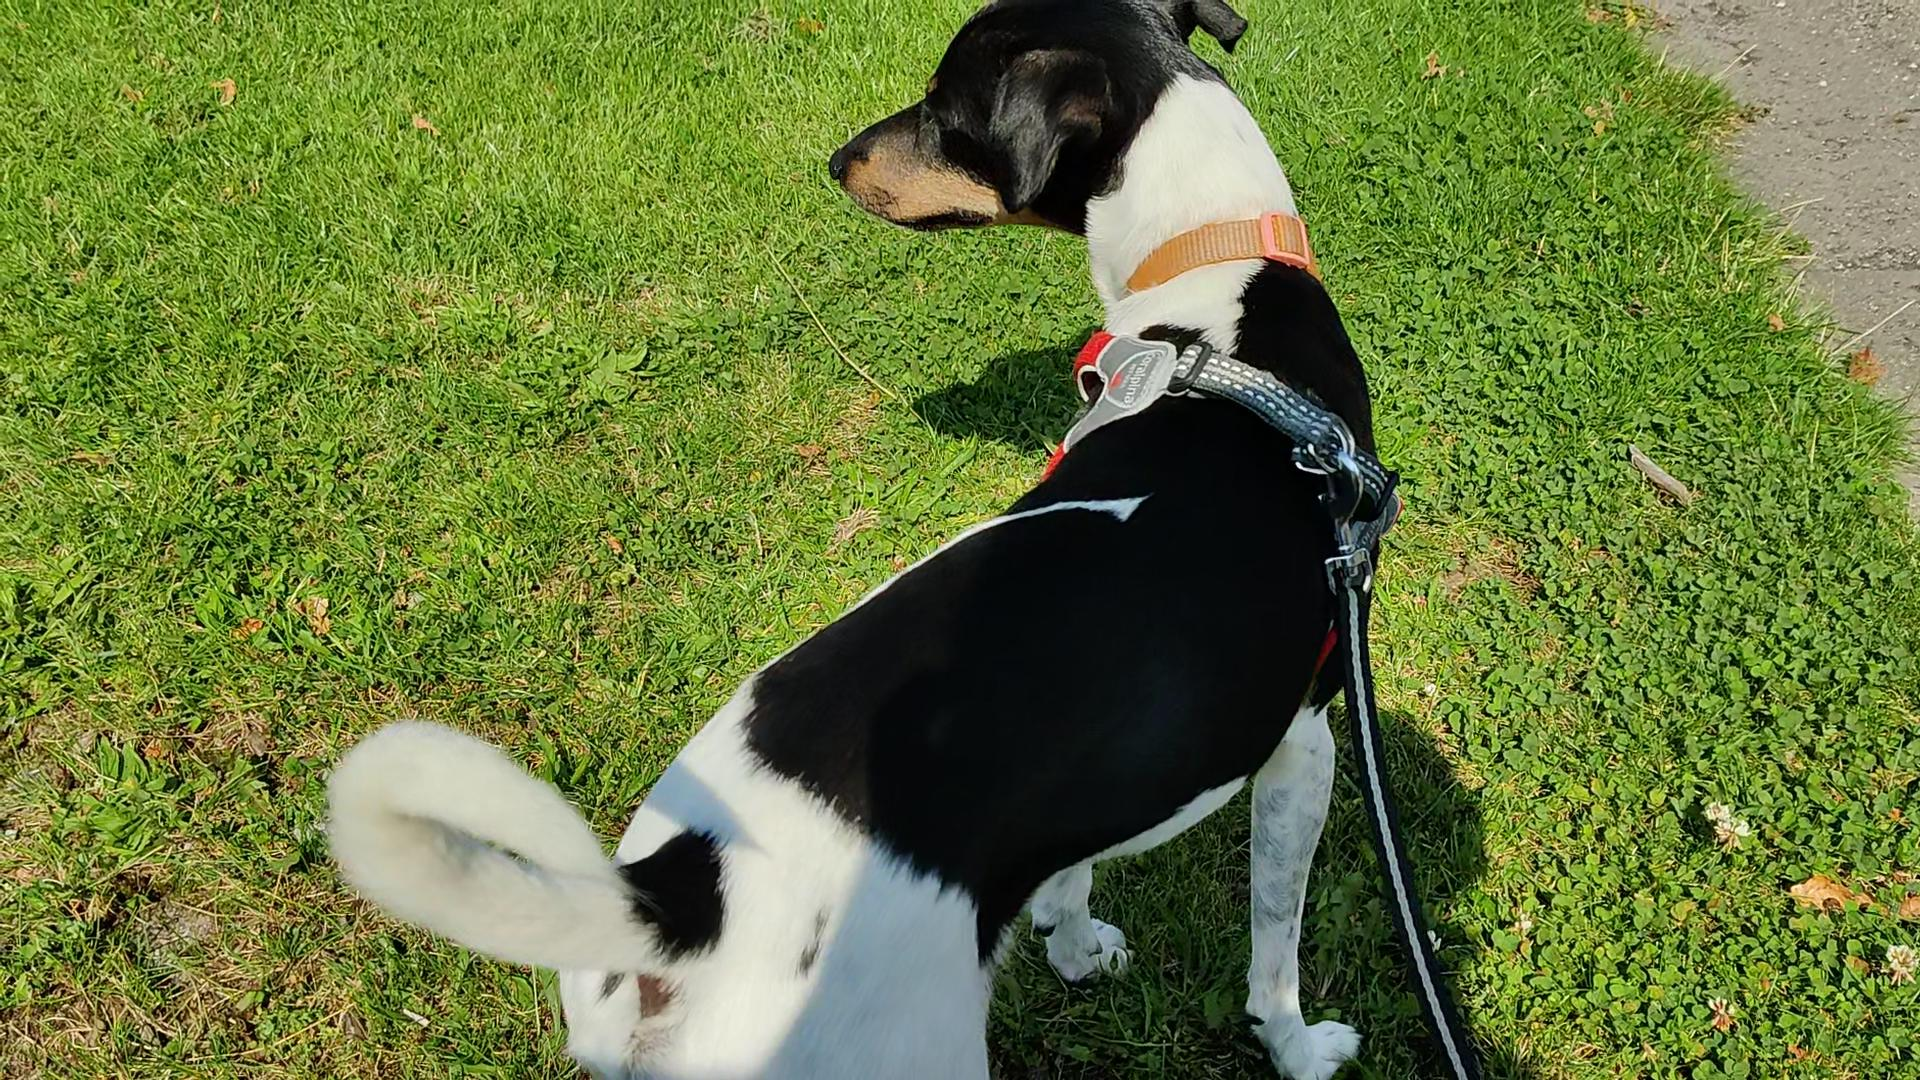Dog: (320, 0, 1396, 1079)
